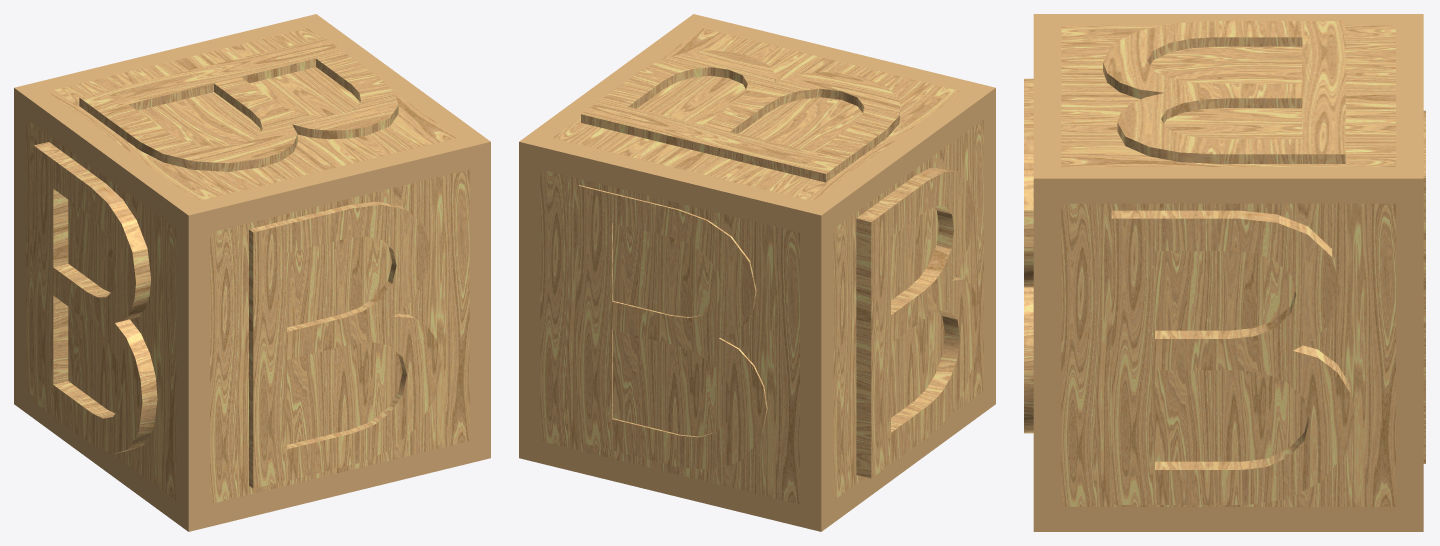
File: block-b.fbx
3 renders of one model, left to right at view 1: azimuth 30°, elevation 25°; view 2: azimuth 150°, elevation 25°; view 3: azimuth 270°, elevation 25°, orthographic. The views are drawn at different scales.
Parts seen in each view (by area): view 1: Box, FRONT, LEFT, TOP; view 2: Box, BACK, LEFT, TOP; view 3: Box, RIGHT, TOP, FRONT, BACK.
Part boxes in pixels (x1,y1,x2,y2): Box: (14, 14, 490, 531); FRONT: (249, 201, 441, 488); LEFT: (33, 142, 157, 454); TOP: (79, 37, 398, 171); Box: (519, 14, 995, 531); BACK: (578, 185, 767, 470); LEFT: (856, 168, 979, 478); TOP: (581, 50, 899, 182); Box: (1033, 14, 1423, 531); RIGHT: (1111, 210, 1354, 504); TOP: (1103, 21, 1345, 163); FRONT: (1024, 78, 1033, 433); BACK: (1423, 110, 1425, 463).
Bounding box in the file's own units: 1.1 × 1.04 × 1.03.
Materials: 2 (2 with a texture image).
